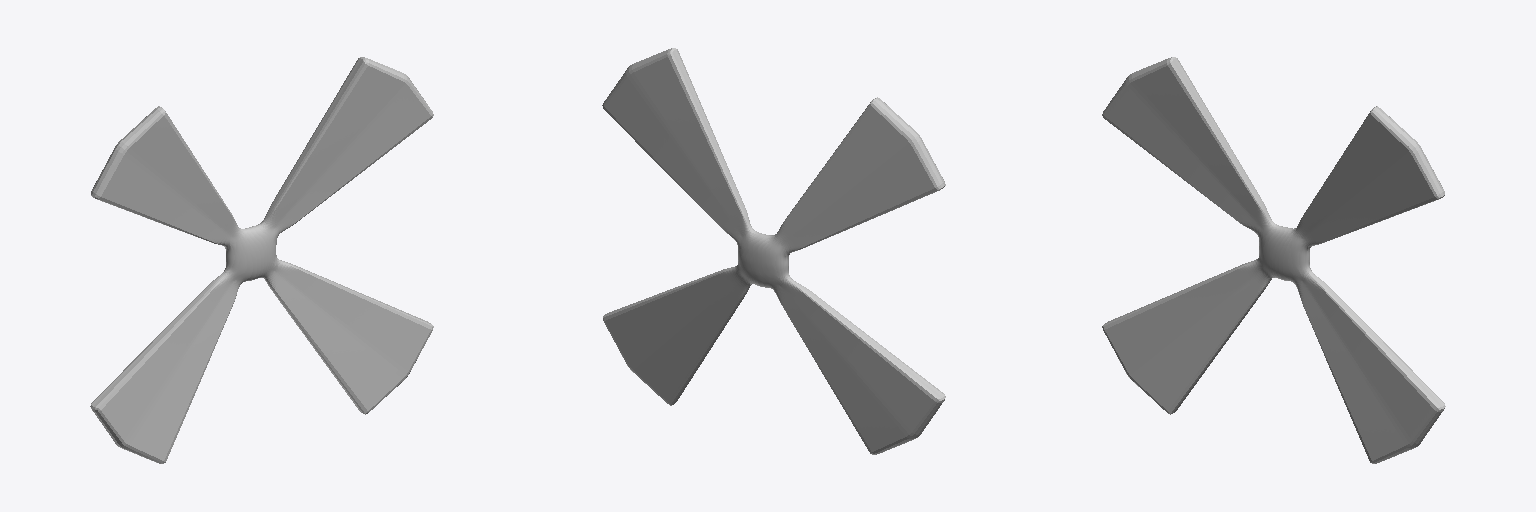
Rendered from windmillSpin.obj.
The picture shows the model from 3 angles: view 1: azimuth 30°, elevation 25°; view 2: azimuth 150°, elevation 25°; view 3: azimuth 330°, elevation 25°; orthographic projection.
Visible parts, largest first — view 1: pCube22; view 2: pCube22; view 3: pCube22.
Part boxes in pixels (x1,y1,x2,y2): pCube22: (90,57,433,463); pCube22: (602,48,945,454); pCube22: (1102,57,1445,463).
Size of the model in its own units: 4.05 by 4.05 by 0.4227.